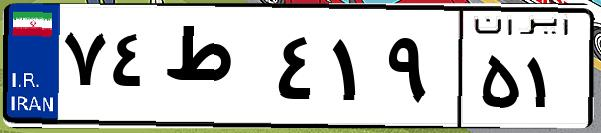1: (330, 28, 385, 110), (525, 38, 570, 115)
4: (270, 28, 330, 110), (110, 28, 158, 98)
5: (475, 38, 525, 113)
7: (57, 26, 110, 100)
9: (385, 28, 445, 110)
ط: (158, 20, 270, 120)
